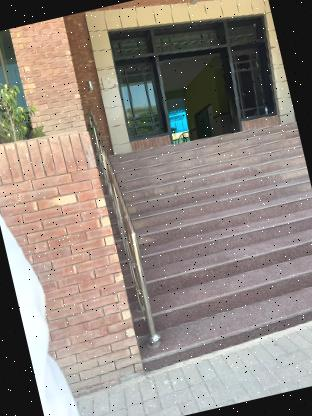door: (87, 0, 290, 154)
stair: (102, 112, 312, 366)
